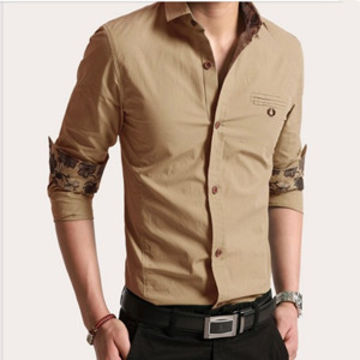Shirt: (30, 12, 349, 306)
